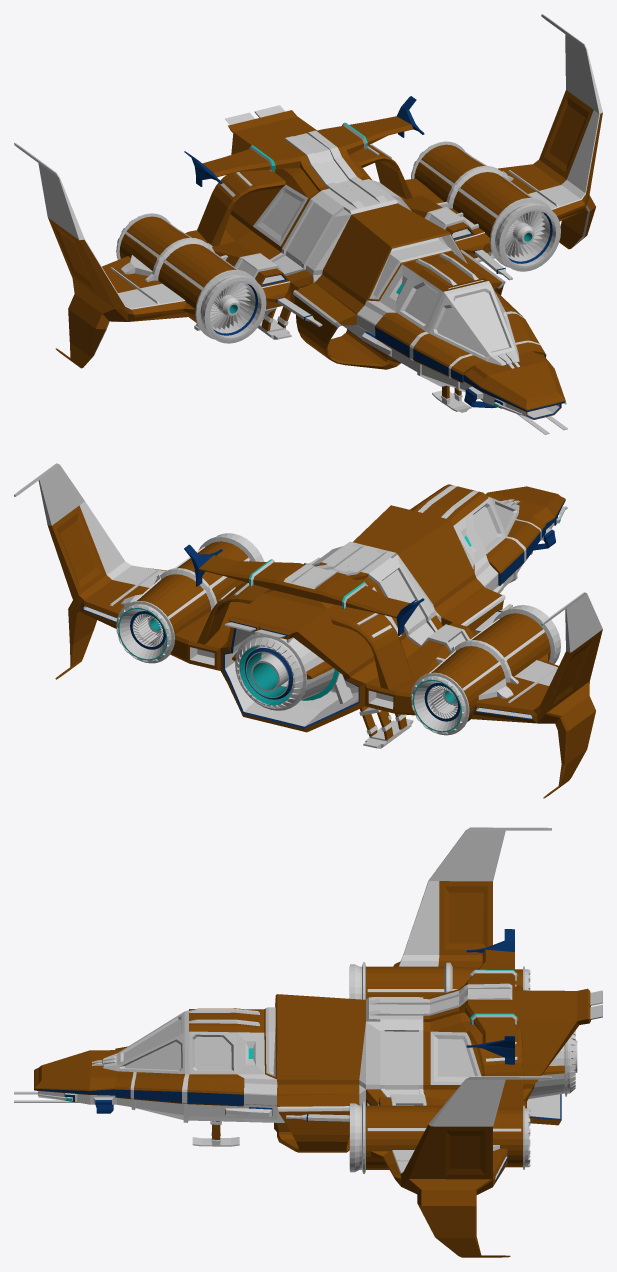
The model's file is Spaceship01Colored.obj.
The picture shows the model from 3 angles, top to bottom: view 1: azimuth 30°, elevation 25°; view 2: azimuth 150°, elevation 25°; view 3: azimuth 270°, elevation 25°; orthographic projection. The views are drawn at different scales.
Parts seen in each view (by area): view 1: Cube, Cube.002; view 2: Cube, Cube.002, Cylinder_Cylinder.001; view 3: Cube, Cube.002, Cylinder_Cylinder.001.
Boxes of the visible parts, x1=… form: Cube: x1=14, y1=14, x2=602, y2=434; Cube.002: x1=116, y1=141, x2=560, y2=343; Cube: x1=14, y1=463, x2=602, y2=798; Cube.002: x1=116, y1=533, x2=560, y2=735; Cylinder_Cylinder.001: x1=232, y1=631, x2=340, y2=710; Cube: x1=14, y1=827, x2=602, y2=1257; Cube.002: x1=349, y1=962, x2=530, y2=1173; Cylinder_Cylinder.001: x1=528, y1=1030, x2=577, y2=1099.
Size of the model in its own units: 19.18 by 6.93 by 19.12.
